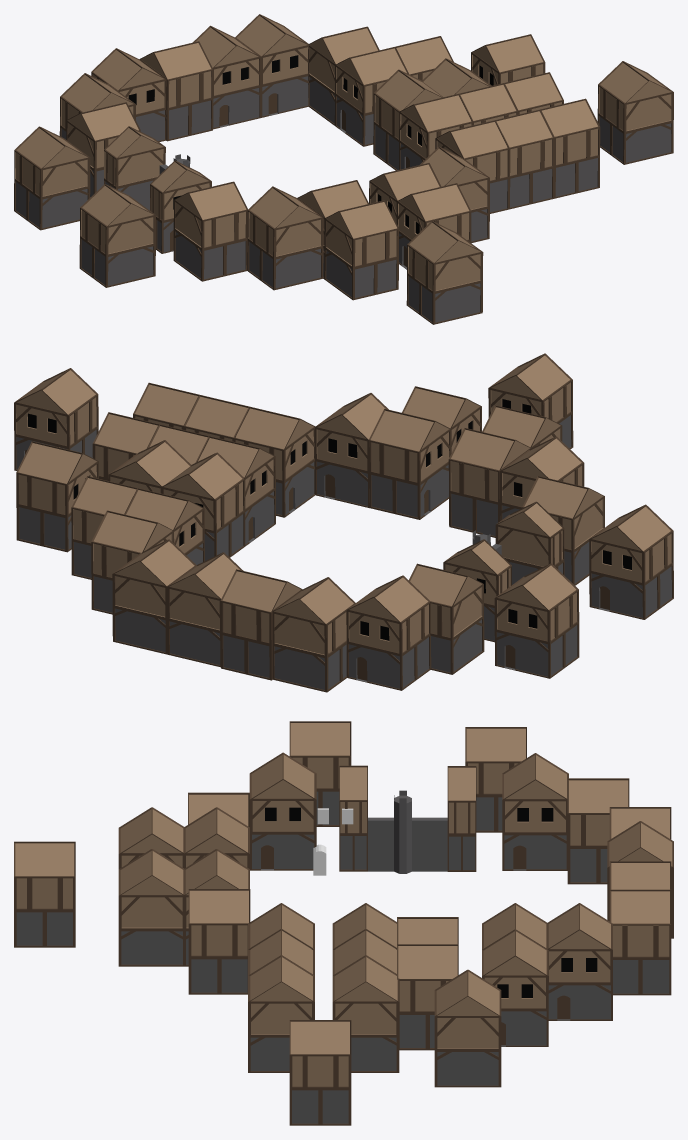
Rendered from Tv_talo.fbx.
3 renders of one model, top to bottom at view 1: azimuth 30°, elevation 25°; view 2: azimuth 150°, elevation 25°; view 3: azimuth 270°, elevation 25°, orthographic. The views are drawn at different scales.
Visible parts, largest first — view 1: Cube.032; view 2: Cube.032; view 3: Cube.032.
Part boxes in pixels (x1=…): Cube.032: x1=14, y1=14, x2=673, y2=324; Cube.032: x1=14, y1=353, x2=673, y2=692; Cube.032: x1=14, y1=721, x2=673, y2=1125.
Bounding box in the file's own units: 7916 × 1095 × 6835.
